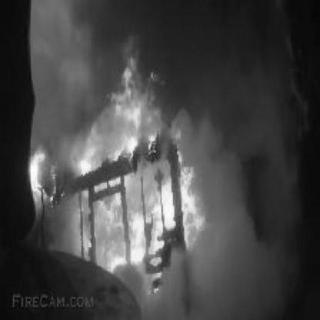Fire: (5, 30, 267, 290)
